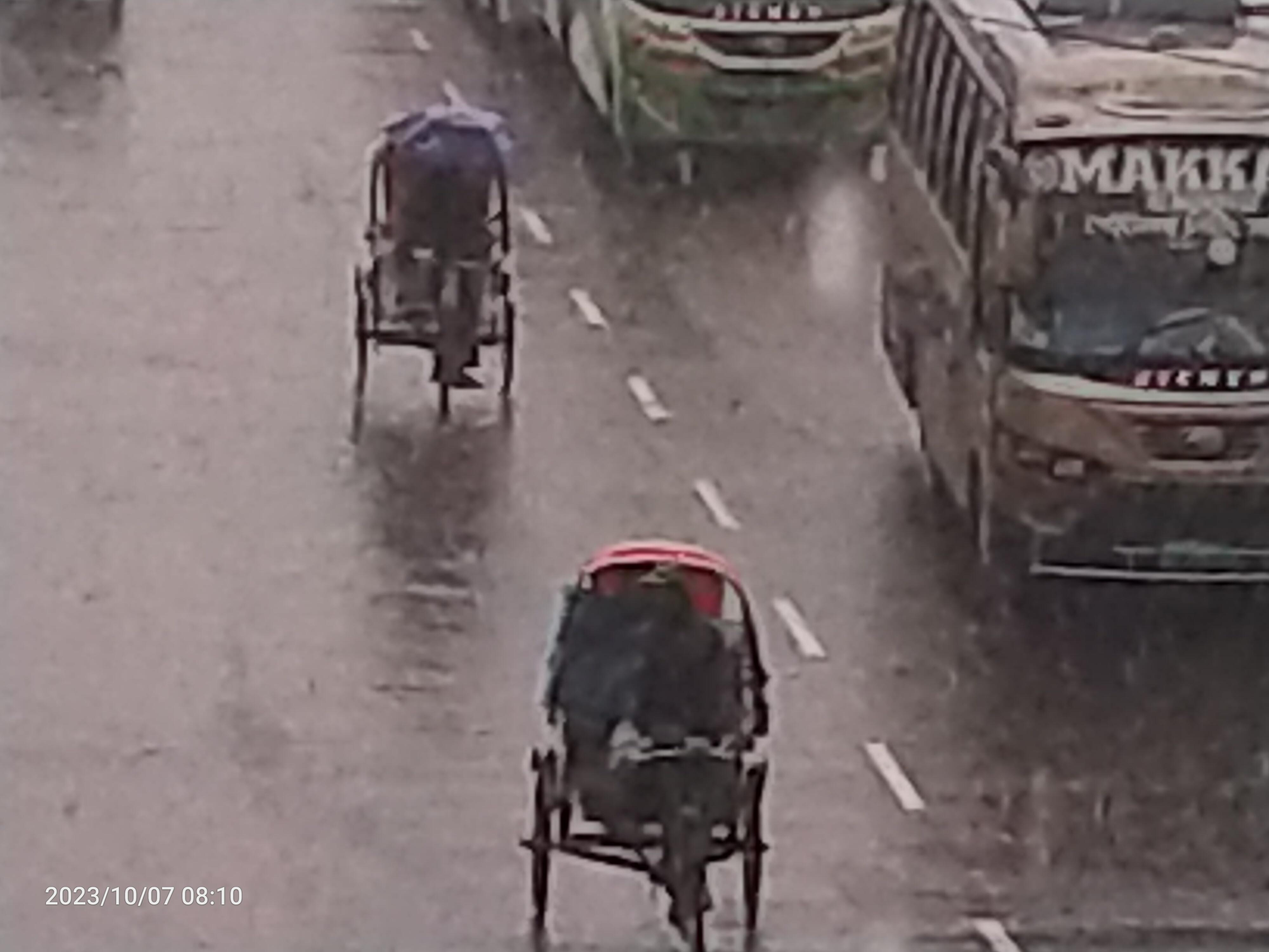Bus: (866, 3, 1269, 616), (542, 0, 878, 214)
Car: (468, 494, 841, 952), (323, 62, 551, 473)
